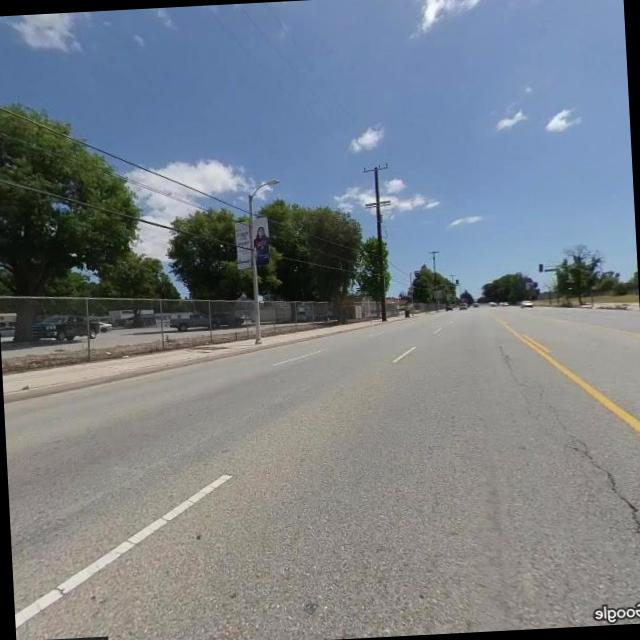pothole: (556, 409, 640, 607)
